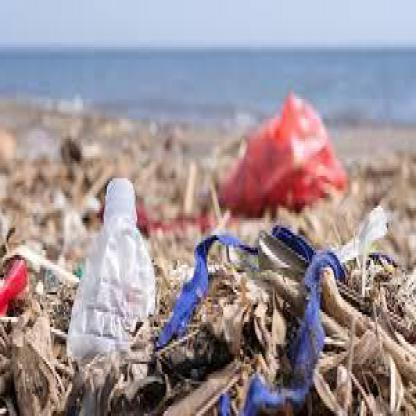Plastic: (64, 174, 157, 366)
